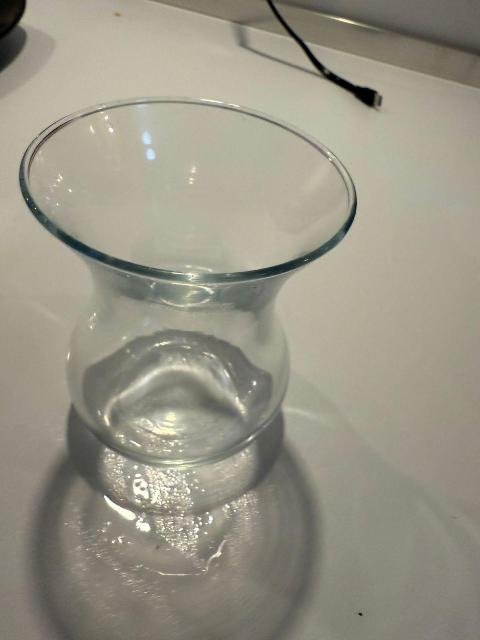Cam: (8, 95, 361, 471)
